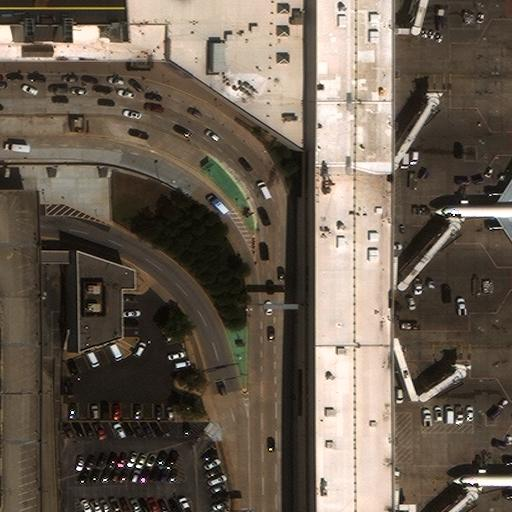Medium Civil Transport: (433, 166, 512, 254), (452, 446, 512, 512)
